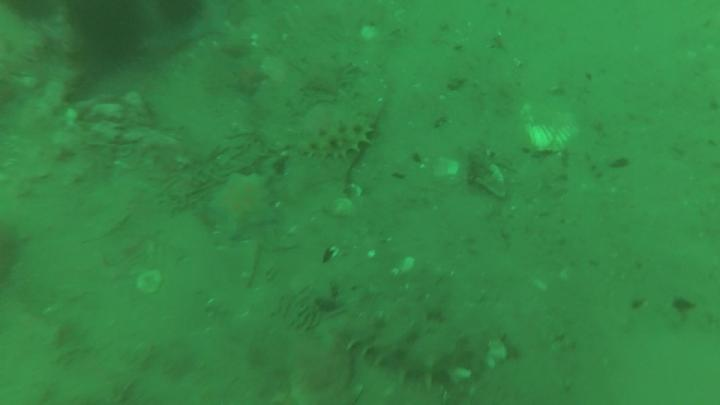echinus: (66, 3, 150, 58), (157, 1, 200, 23)
holothurian: (336, 322, 460, 389), (298, 117, 371, 161)
scallop: (519, 104, 579, 155)
starfish: (205, 173, 276, 239), (302, 54, 353, 95), (228, 60, 269, 94)
